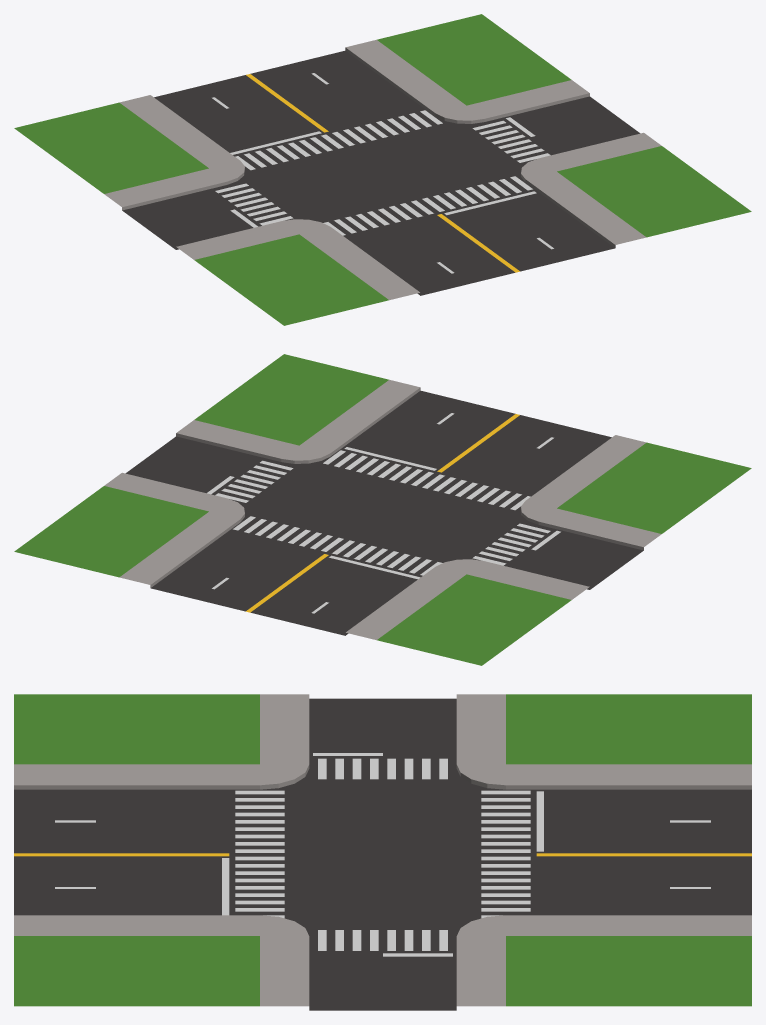
Rendered from tiles-nb-tile-road-mainroad-intersection-nb.glb.
3 views of the same model, one above another, from view 1: azimuth 30°, elevation 25°; view 2: azimuth 150°, elevation 25°; view 3: azimuth 270°, elevation 25° (orthographic). The views are drawn at different scales.
Visible parts, largest first — view 1: tile-road-mainroad-intersection-nb; view 2: tile-road-mainroad-intersection-nb; view 3: tile-road-mainroad-intersection-nb.
Part boxes in pixels (x1,y1,x2,y2): tile-road-mainroad-intersection-nb: [14, 14, 751, 325]; tile-road-mainroad-intersection-nb: [14, 354, 751, 665]; tile-road-mainroad-intersection-nb: [14, 694, 751, 1010].
Size of the model in its own units: 30 by 0.2 by 30.
